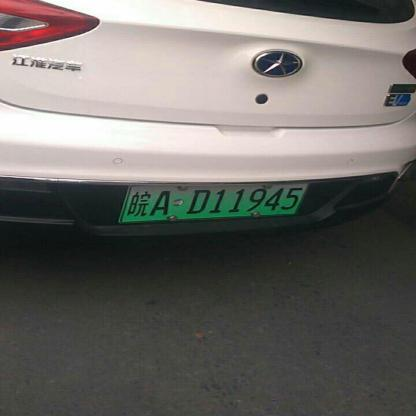lp: (121, 184, 309, 222)
